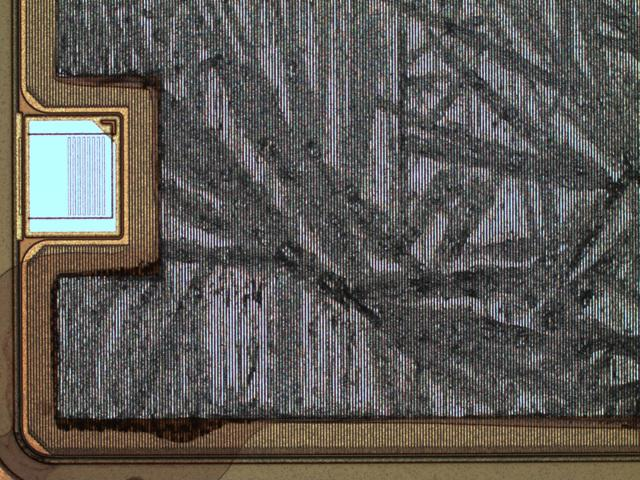SEZ BURNT: (58, 1, 640, 421)
